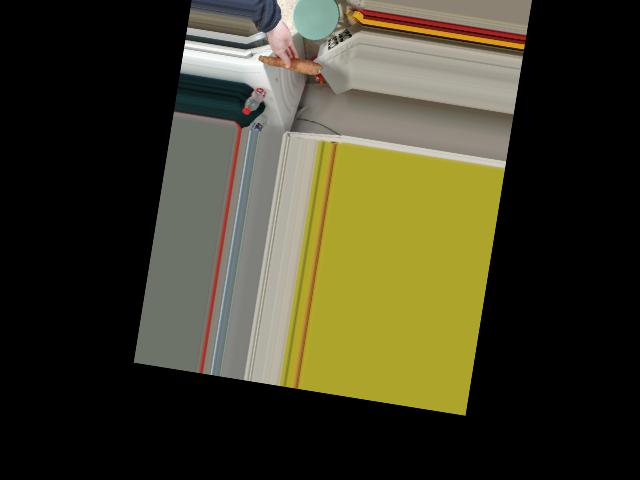sweet_potato: (256, 46, 322, 77)
